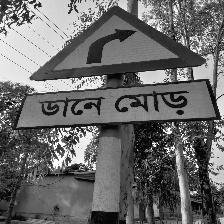Right-turn: (14, 4, 218, 128)
